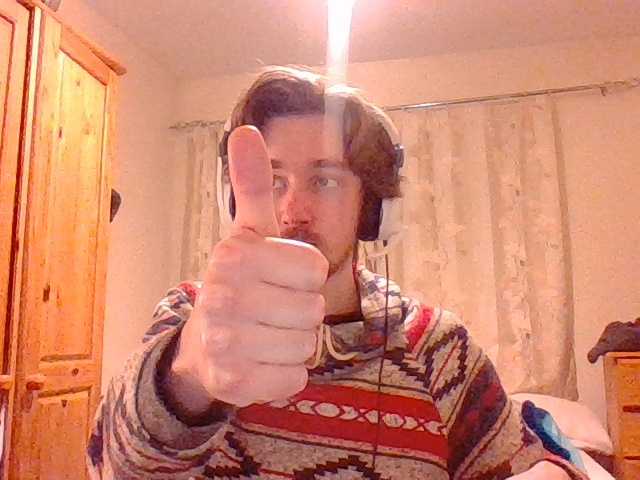good: (188, 124, 328, 398)
